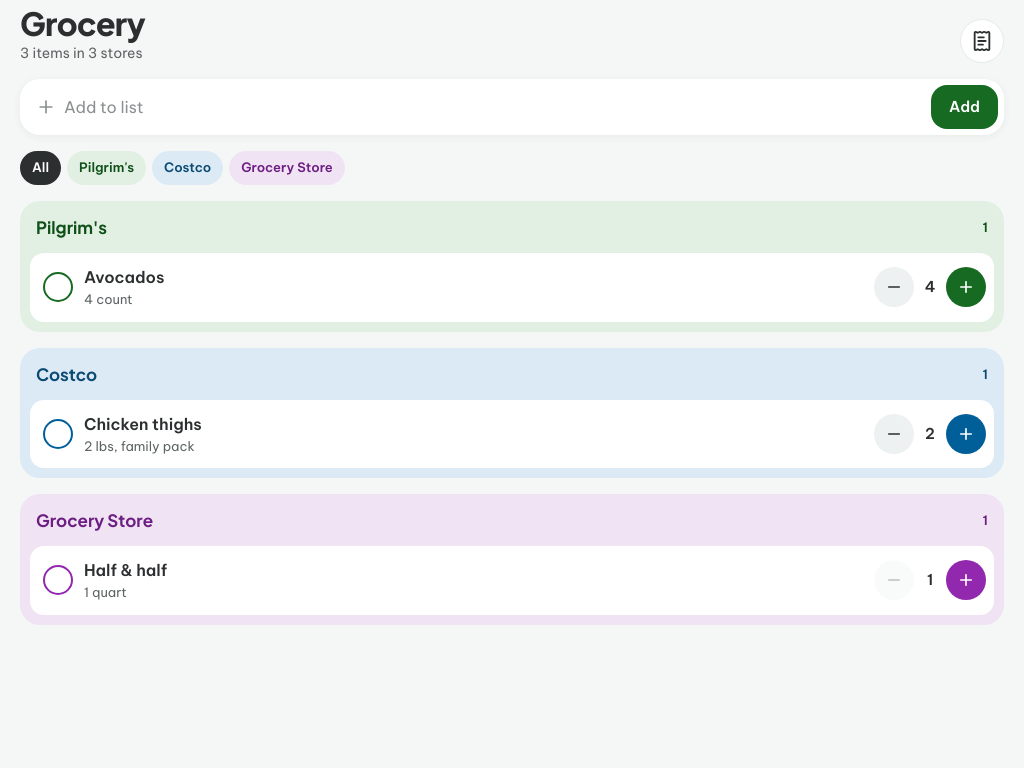
Test: GroceryPage › tapping a row name opens the edit sheet
Expected: the text "Avocados" is shown, [84,267,164,287]
Click the button with aria-label "Edit Avocados": {"x": 124, "y": 277} [84,261,864,314]
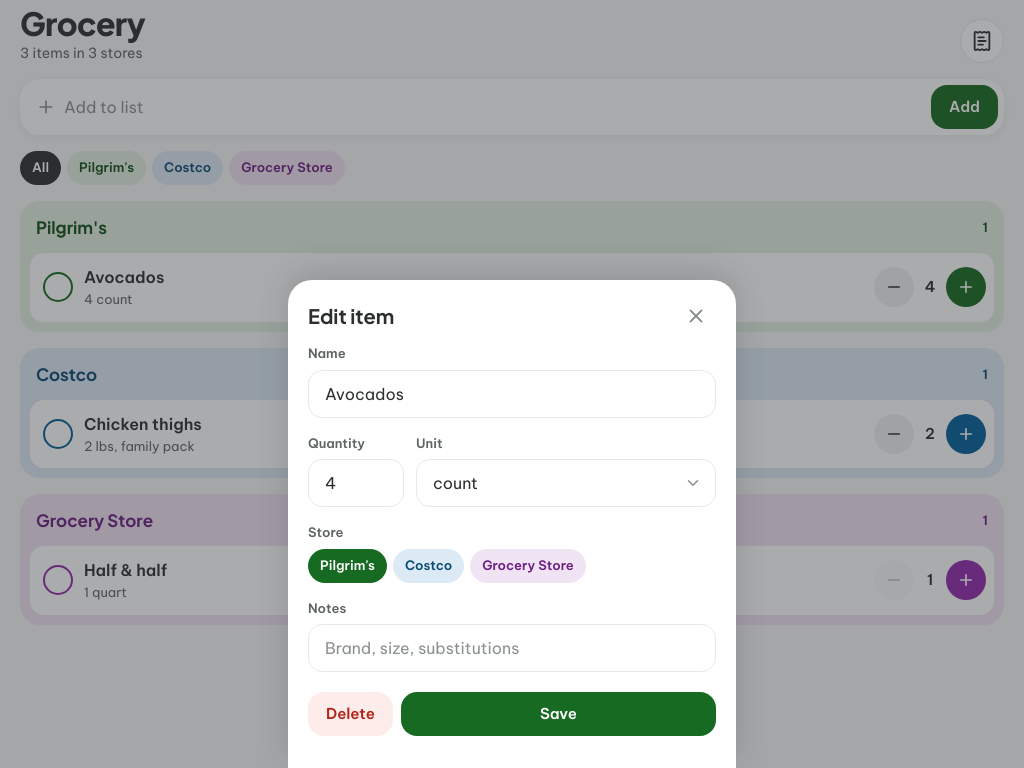
Expected: the field labelled "Name" holds "Avocados", [308,370,716,418]
